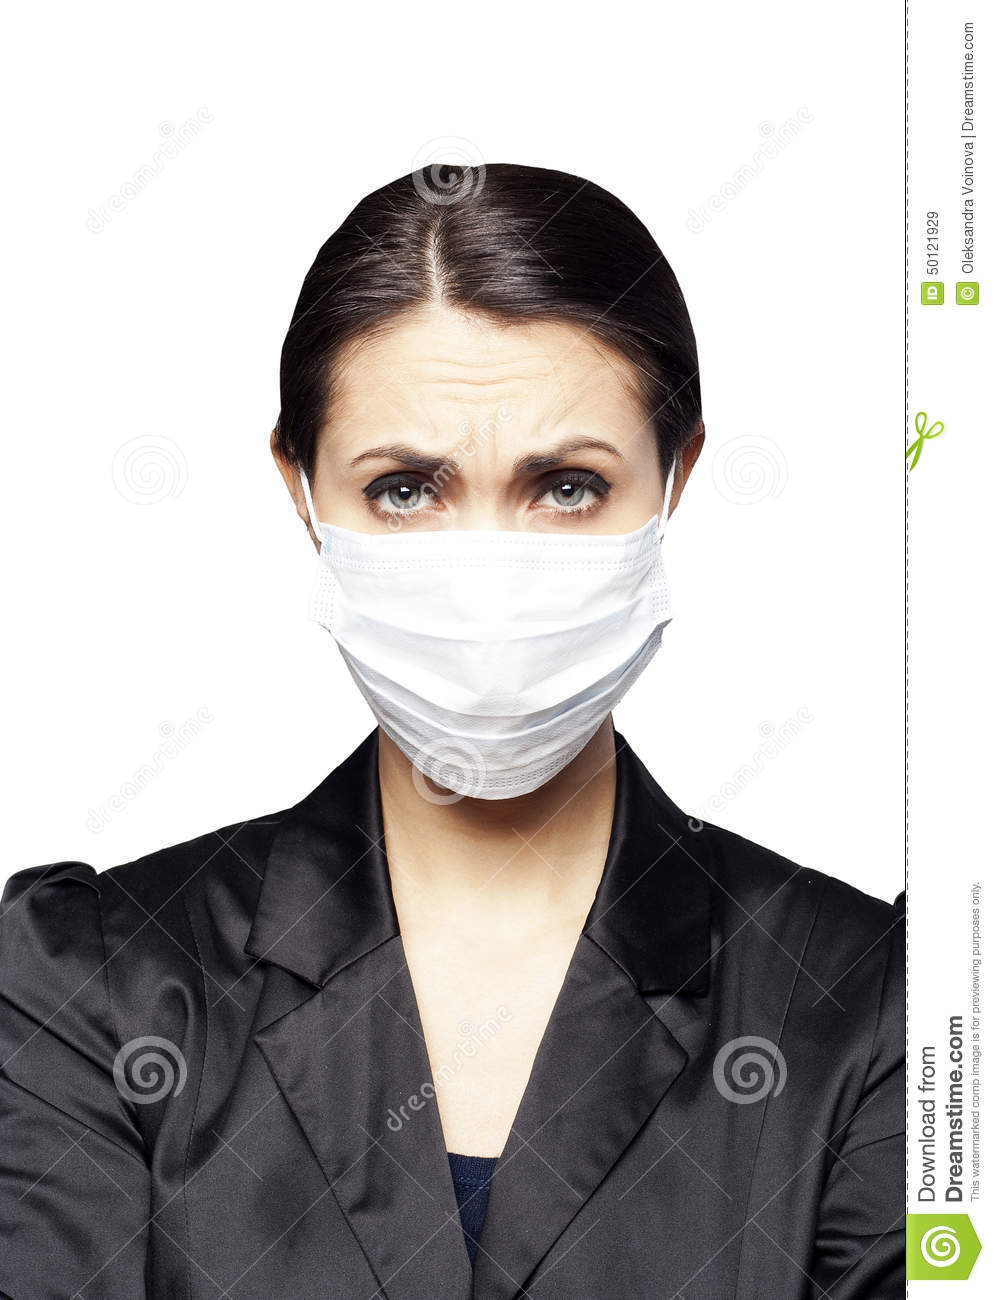mask: (324, 531, 657, 813)
